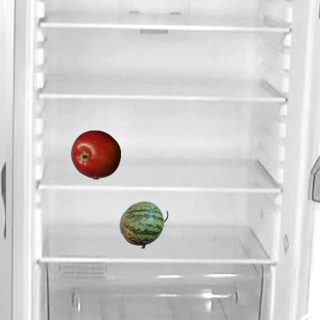Apple Braeburn: (70, 129, 120, 179)
Watermelon: (118, 199, 168, 249)
